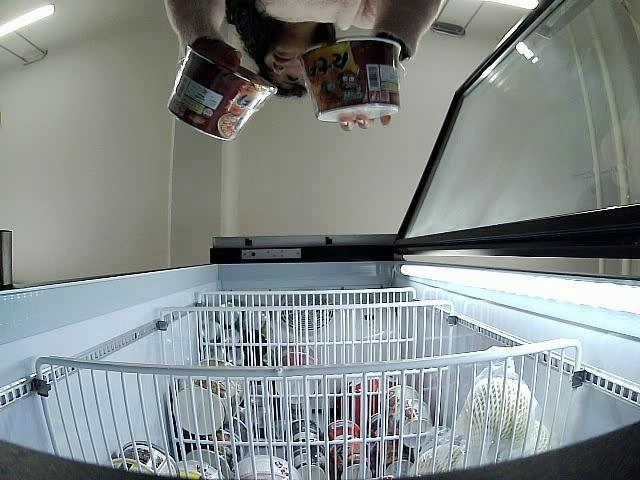05_nuguri_L: (164, 45, 280, 141), (298, 38, 403, 122)
